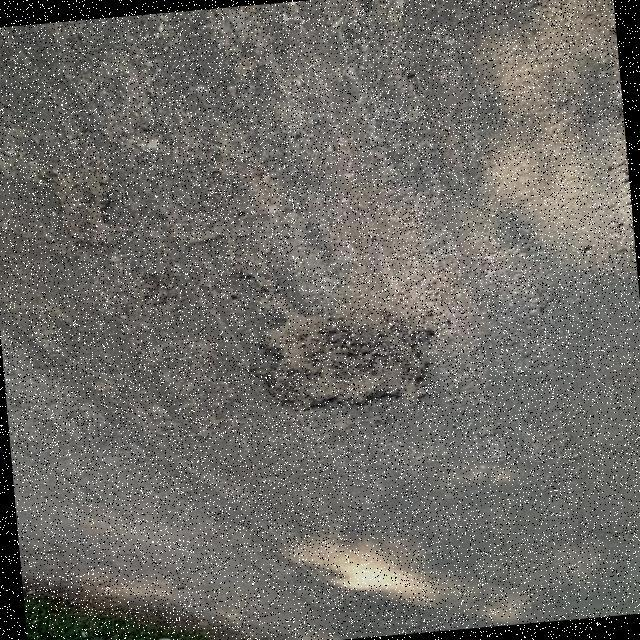Pothole: (260, 296, 435, 409)
